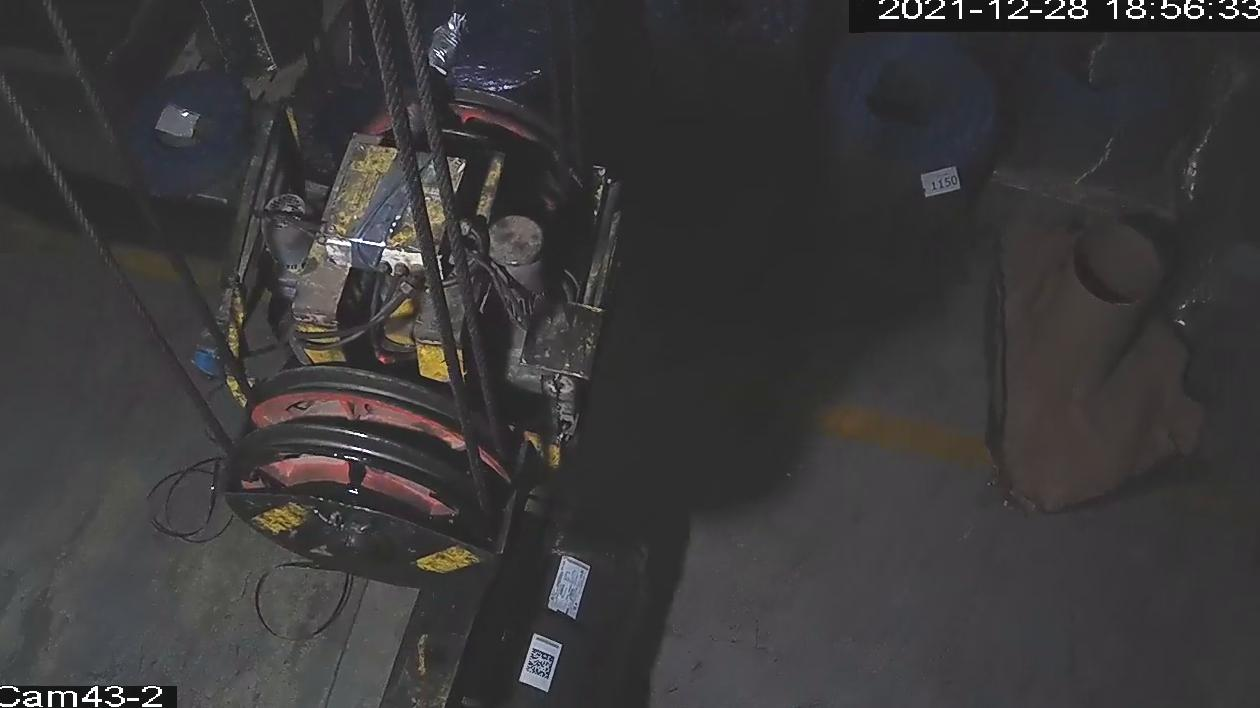data matrix: (523, 646, 558, 683)
